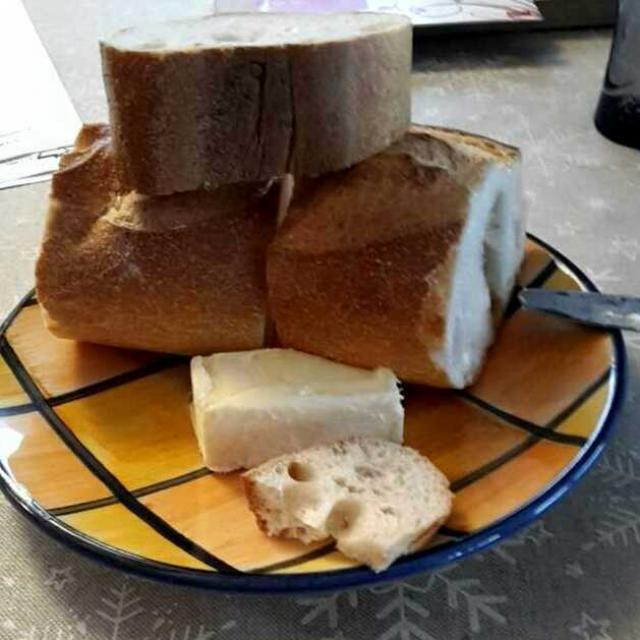bread: (29, 16, 551, 587)
butter: (175, 342, 412, 472)
